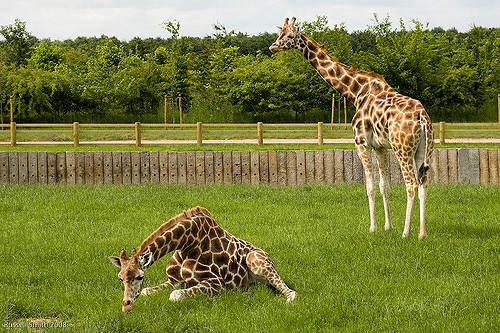giraffe: (264, 16, 439, 253), (91, 196, 308, 311)
